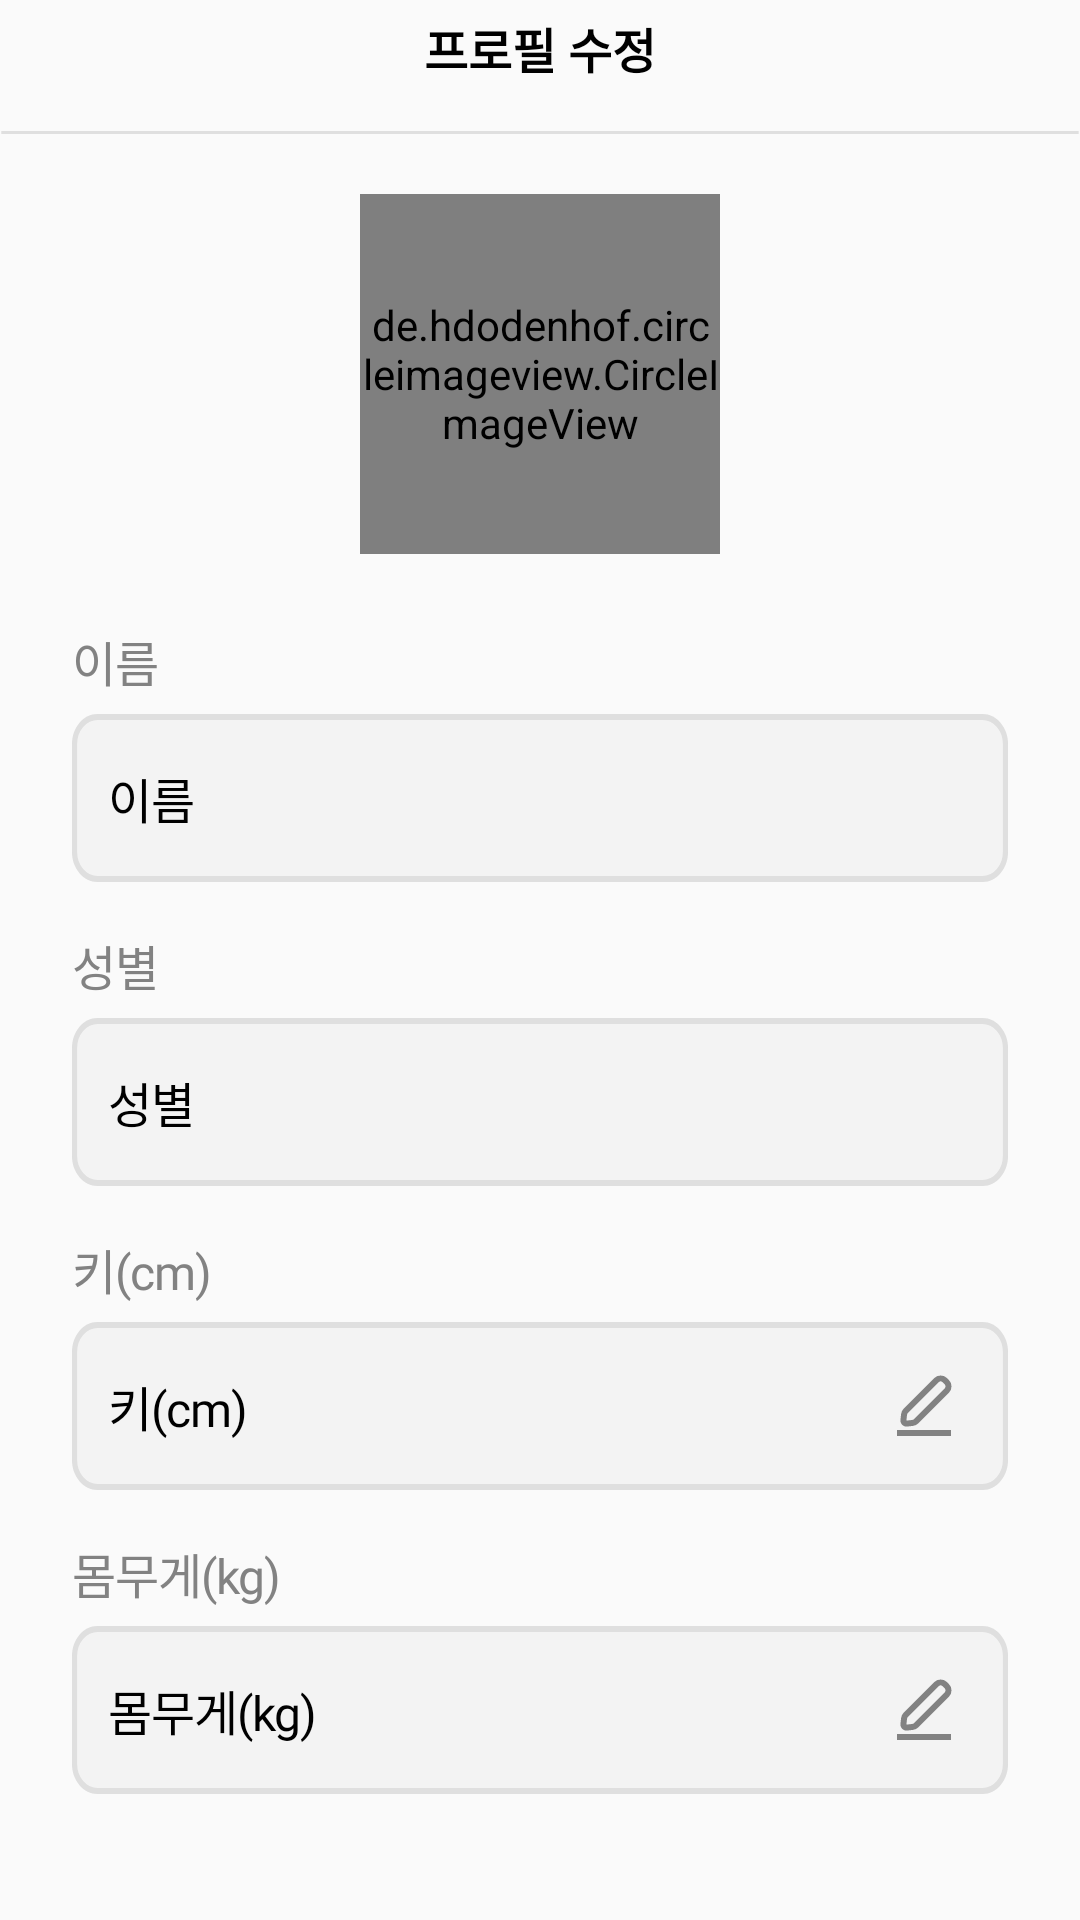

Screen size 1080w x 1920h. Icon name, then its center in pixels as (x=x, y=y):
all edit: (x=924, y=1405), (x=924, y=1709)
